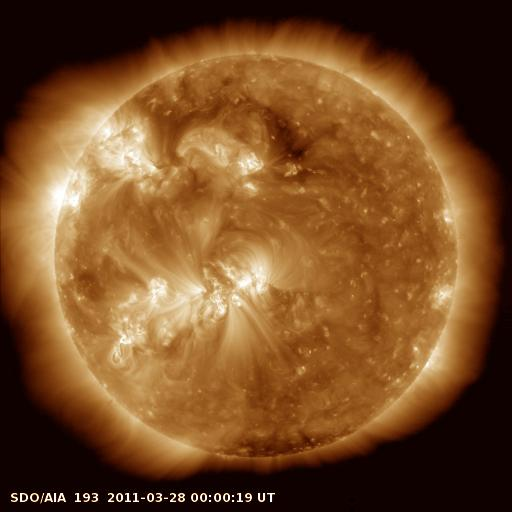coronal_hole: (203, 428, 357, 459), (266, 106, 313, 164)
